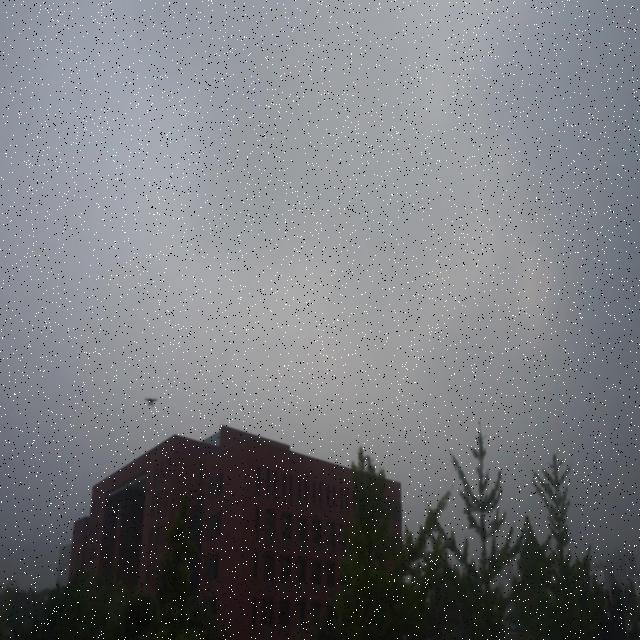UAV: (144, 397, 158, 408)
